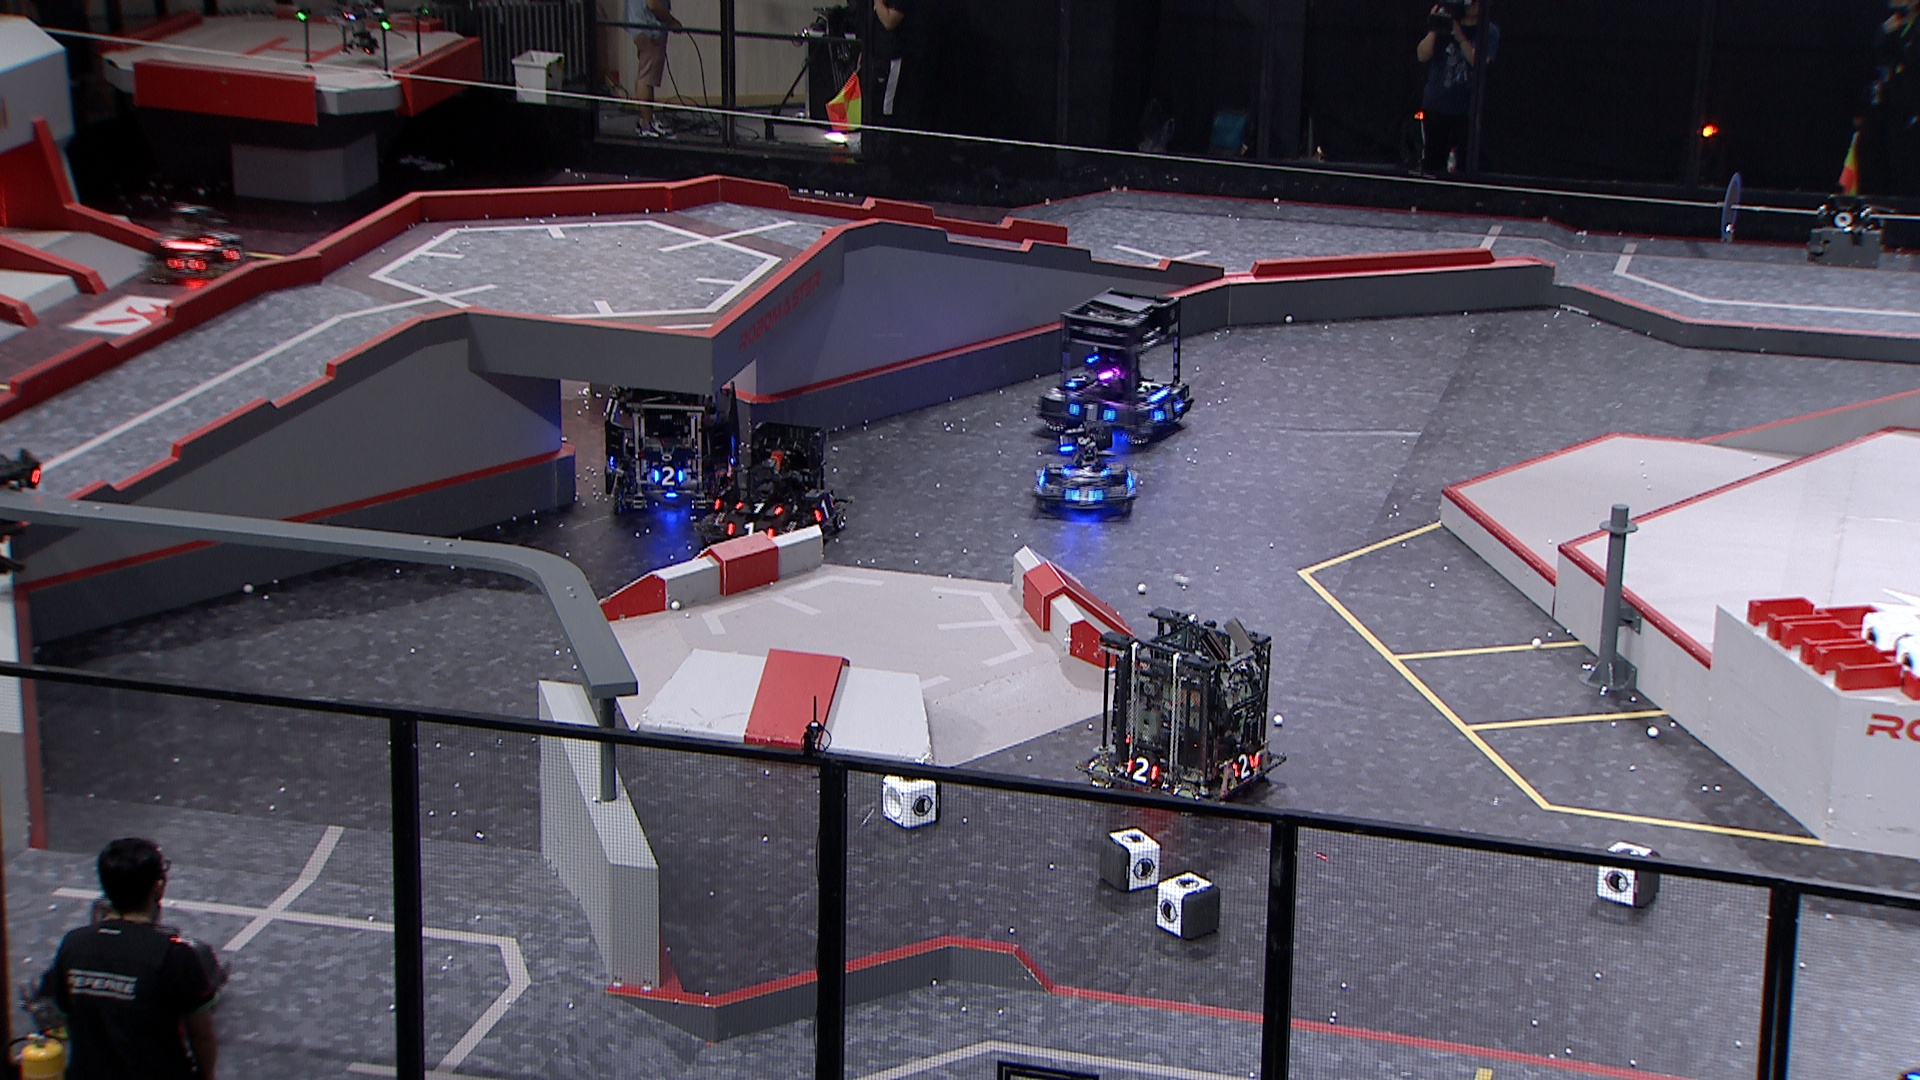armor: (1067, 400, 1116, 425), (1126, 754, 1160, 785), (727, 520, 775, 541), (733, 500, 783, 518), (164, 256, 210, 276), (1067, 485, 1105, 508), (1153, 400, 1183, 425), (1063, 465, 1112, 480), (812, 496, 836, 524), (655, 465, 686, 487), (1232, 752, 1255, 778), (223, 243, 249, 262), (1065, 373, 1087, 389)
car: (1072, 607, 1286, 818), (1035, 286, 1197, 447), (600, 372, 742, 514), (694, 425, 852, 550), (1029, 425, 1139, 520), (148, 204, 252, 284)
